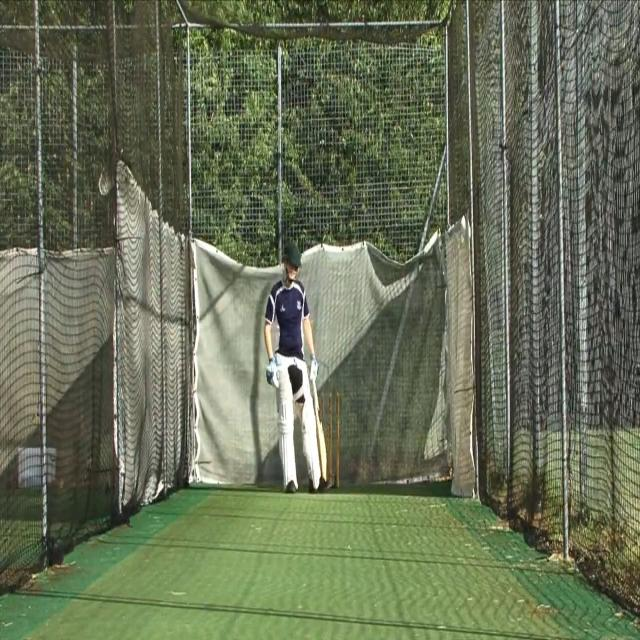batsman: (263, 238, 333, 496)
